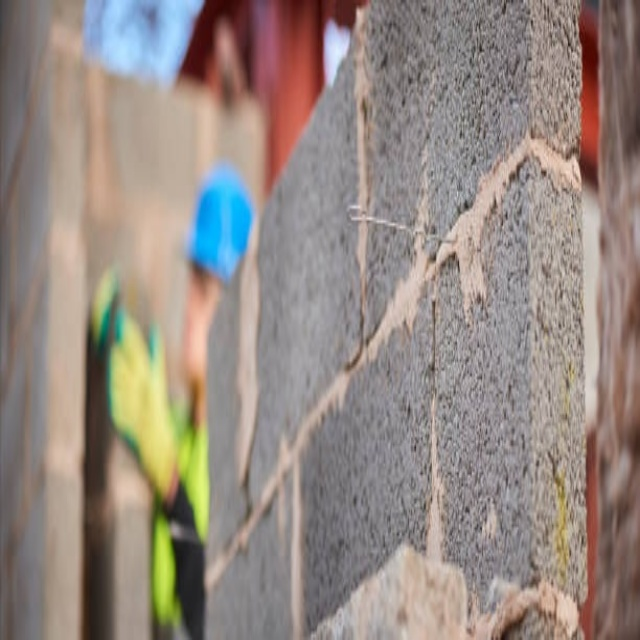Guantes: (101, 290, 182, 504)
